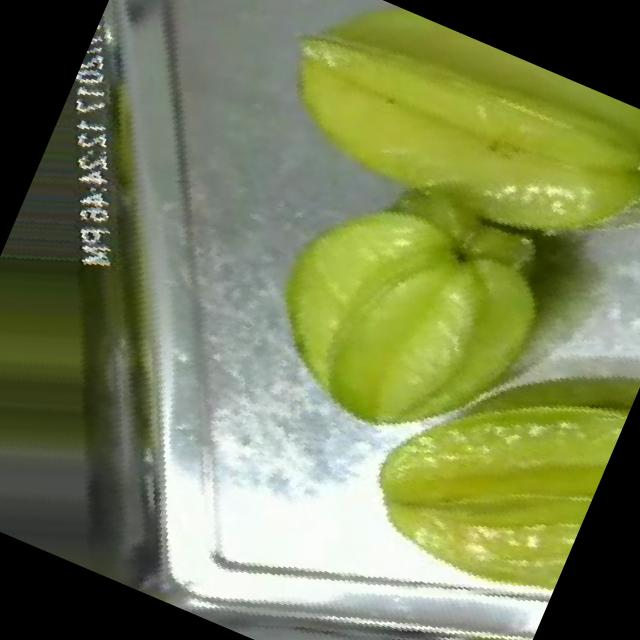fruit: (184, 86, 640, 540), (201, 0, 640, 314), (301, 249, 640, 640)
